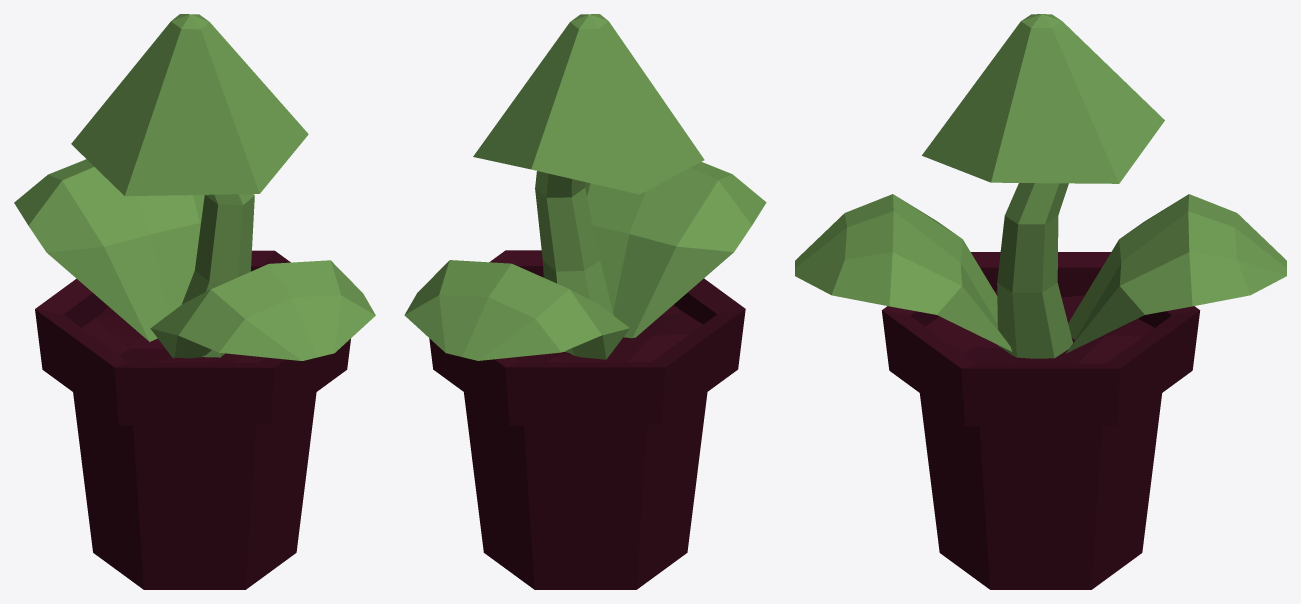
File: kwiatek_z_lisciami.fbx
3 renders of one model, left to right at view 1: azimuth 30°, elevation 25°; view 2: azimuth 150°, elevation 25°; view 3: azimuth 270°, elevation 25°, orthographic.
Parts seen in each view (by area): view 1: kwiatek z lisciami, kwiatek z lisciami doniczka; view 2: kwiatek z lisciami, kwiatek z lisciami doniczka; view 3: kwiatek z lisciami, kwiatek z lisciami doniczka.
Boxes of the visible parts, x1,y1,x2,y2 form: kwiatek z lisciami: [14, 14, 375, 360]; kwiatek z lisciami doniczka: [35, 250, 350, 589]; kwiatek z lisciami: [404, 14, 766, 360]; kwiatek z lisciami doniczka: [429, 250, 745, 589]; kwiatek z lisciami: [795, 14, 1286, 358]; kwiatek z lisciami doniczka: [881, 252, 1200, 589].
Bounding box in the file's own units: 38.66 × 83.04 × 68.93.
